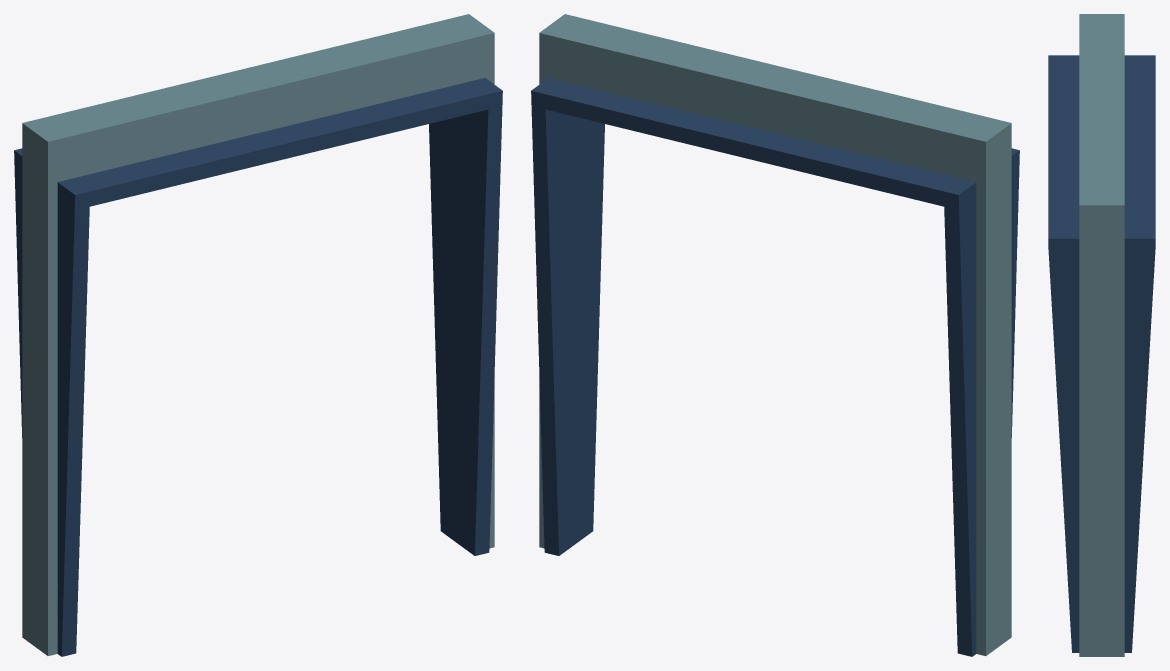
File: W1_DoorSquare_2m_Wall.fbx
3 renders of one model, left to right at view 1: azimuth 30°, elevation 25°; view 2: azimuth 150°, elevation 25°; view 3: azimuth 270°, elevation 25°, orthographic. The views are drawn at different scales.
Visible parts, largest first — view 1: W1_DoorSquare_2m_Wall.001; view 2: W1_DoorSquare_2m_Wall.001; view 3: W1_DoorSquare_2m_Wall.001.
Part boxes in pixels (bbox=[...]): W1_DoorSquare_2m_Wall.001: bbox=[14, 14, 502, 656]; W1_DoorSquare_2m_Wall.001: bbox=[531, 14, 1019, 656]; W1_DoorSquare_2m_Wall.001: bbox=[1048, 14, 1155, 656].
Size of the model in its own units: 2 by 2.2 by 0.4744.
